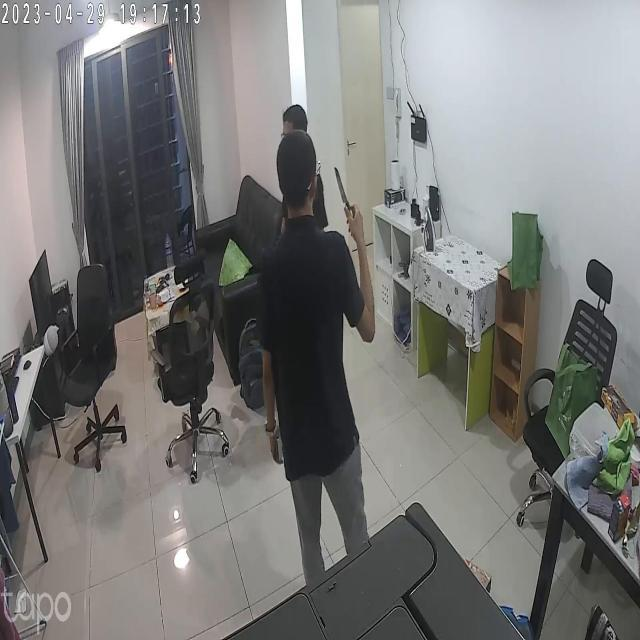Knife: (331, 167, 363, 225)
